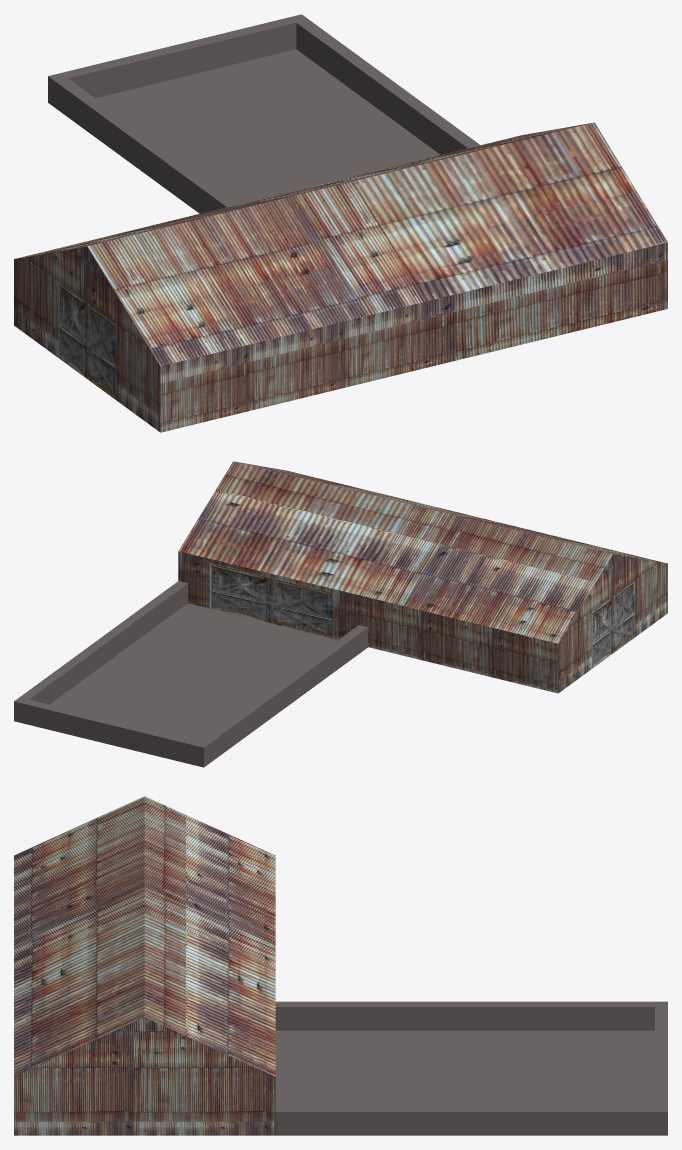
Rendered from barn.fbx.
3 views of the same model, one above another, from view 1: azimuth 30°, elevation 25°; view 2: azimuth 150°, elevation 25°; view 3: azimuth 270°, elevation 25° (orthographic). The views are drawn at different scales.
Visible parts, largest first — view 1: Cube; view 2: Cube; view 3: Cube.
Part boxes in pixels (left/top/right/bottom): Cube: left=14, top=14, right=667, bottom=432; Cube: left=14, top=461, right=667, bottom=767; Cube: left=14, top=796, right=667, bottom=1135.
Size of the model in its own units: 80 by 20 by 100.
1 material, 1 textured.
